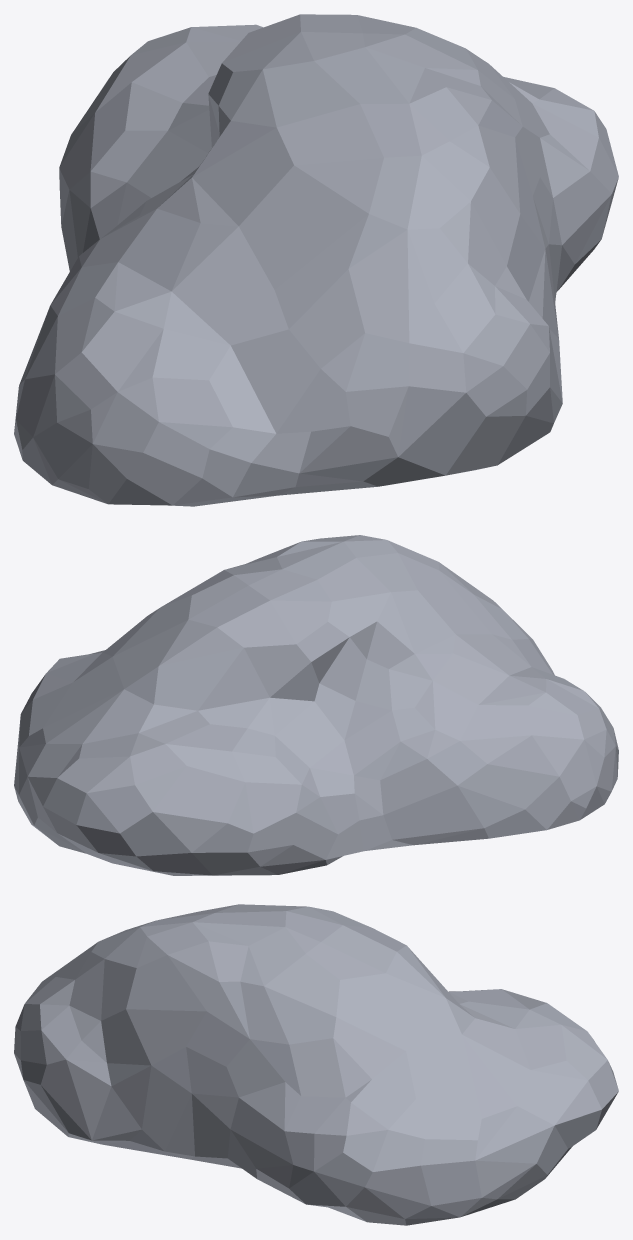
The model's file is rock_1.fbx.
3 renders of one model, top to bottom at view 1: azimuth 30°, elevation 25°; view 2: azimuth 150°, elevation 25°; view 3: azimuth 270°, elevation 25°, orthographic. The views are drawn at different scales.
Parts seen in each view (by area): view 1: rock_1; view 2: rock_1; view 3: rock_1.
Part boxes in pixels (x1,y1,x2,y2): rock_1: (14,14,618,506); rock_1: (14,535,618,875); rock_1: (14,904,618,1225).
Bounding box in the file's own units: 430 × 181 × 464.
